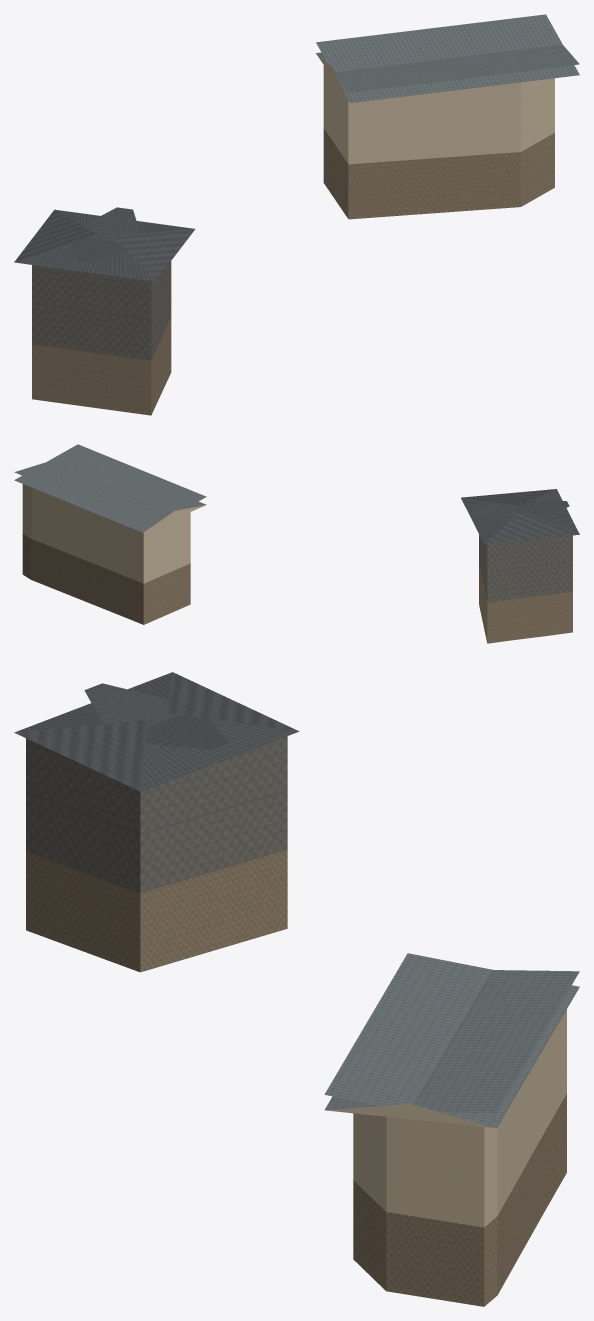
File: bld_c21_45_391.gltf
3 renders of one model, top to bottom at view 1: azimuth 30°, elevation 25°; view 2: azimuth 150°, elevation 25°; view 3: azimuth 270°, elevation 25°, orthographic. The views are drawn at different scales.
Visible parts, largest first — view 1: bld_c21_45_391; view 2: bld_c21_45_391; view 3: bld_c21_45_391.
Boxes of the visible parts, x1,y1,x2,y2 form: bld_c21_45_391: (14, 14, 579, 415); bld_c21_45_391: (14, 444, 579, 643); bld_c21_45_391: (14, 672, 579, 1306).
Bounding box in the file's own units: 62.5 × 13.7 × 32.98.
Materials: 6 (6 with a texture image).
